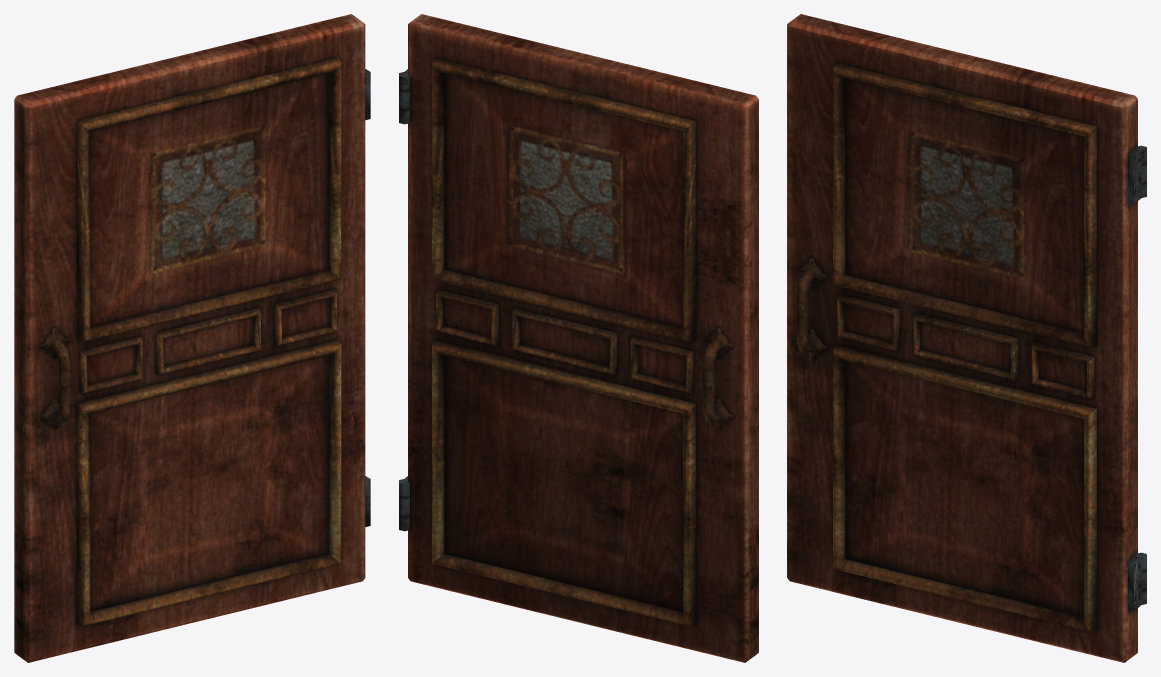
Rendered from mansion.dae.
3 views of the same model, side by side, from view 1: azimuth 30°, elevation 25°; view 2: azimuth 150°, elevation 25°; view 3: azimuth 330°, elevation 25° (orthographic).
Visible parts, largest first — view 1: mansion_door_mesh, mansion_door_hinges; view 2: mansion_door_mesh, mansion_door_hinges; view 3: mansion_door_mesh, mansion_door_hinges.
Boxes of the visible parts, x1,y1,x2,y2 form: mansion_door_mesh: (14,14,365,662); mansion_door_hinges: (365,69,370,526); mansion_door_mesh: (408,14,758,662); mansion_door_hinges: (399,69,409,531); mansion_door_mesh: (787,14,1137,662); mansion_door_hinges: (1128,145,1146,611).
Size of the model in its own units: 1.79 by 0.3624 by 2.75.
